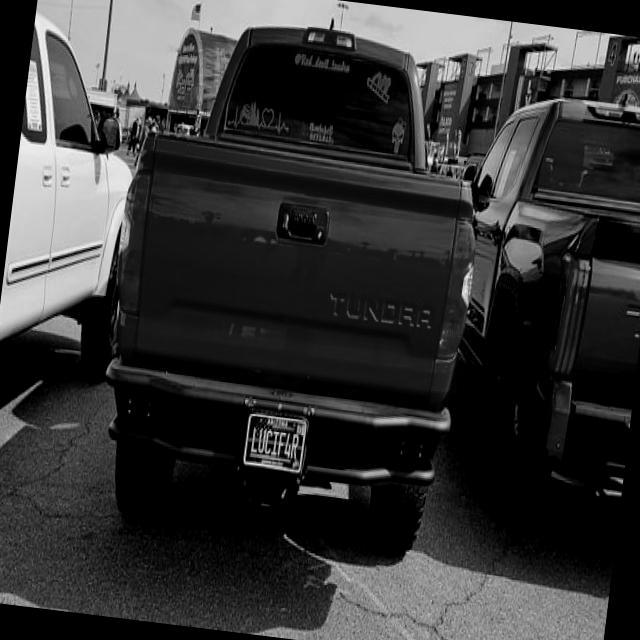LicensePlate: (242, 413, 307, 472)
